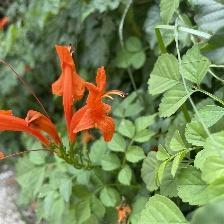honeysuckle: (85, 68, 127, 153)
